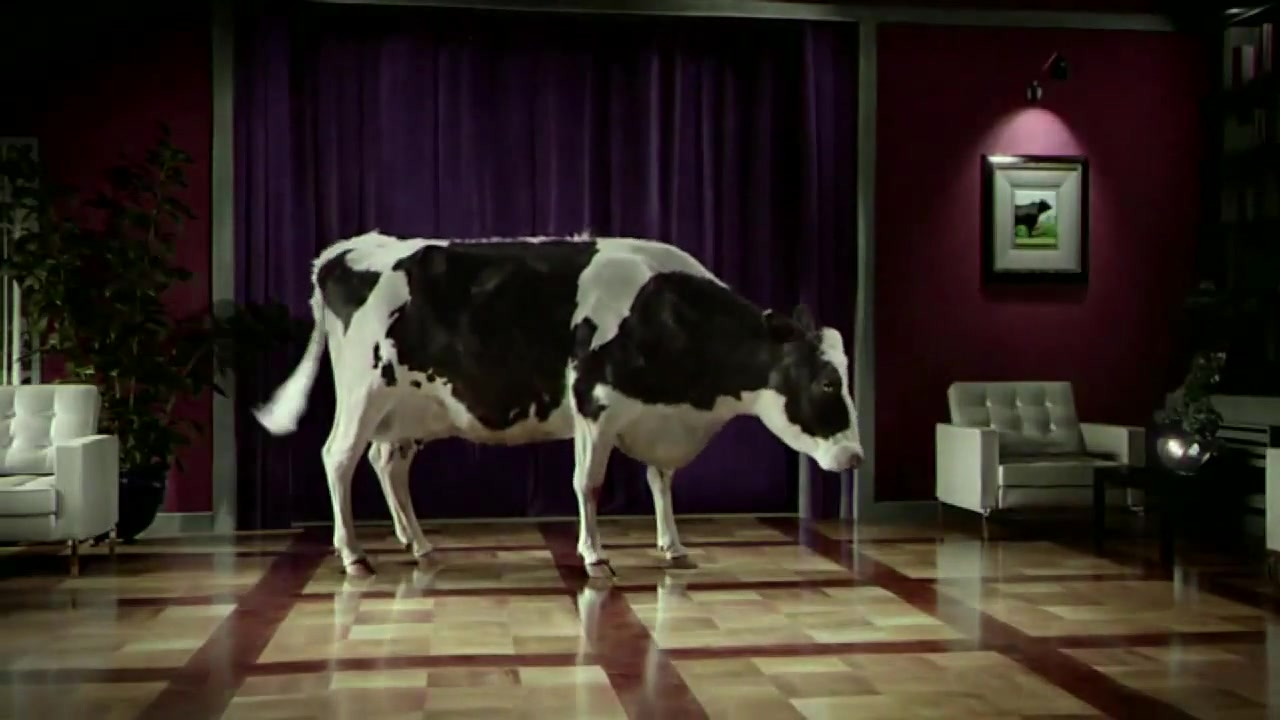cow: (250, 233, 866, 596)
